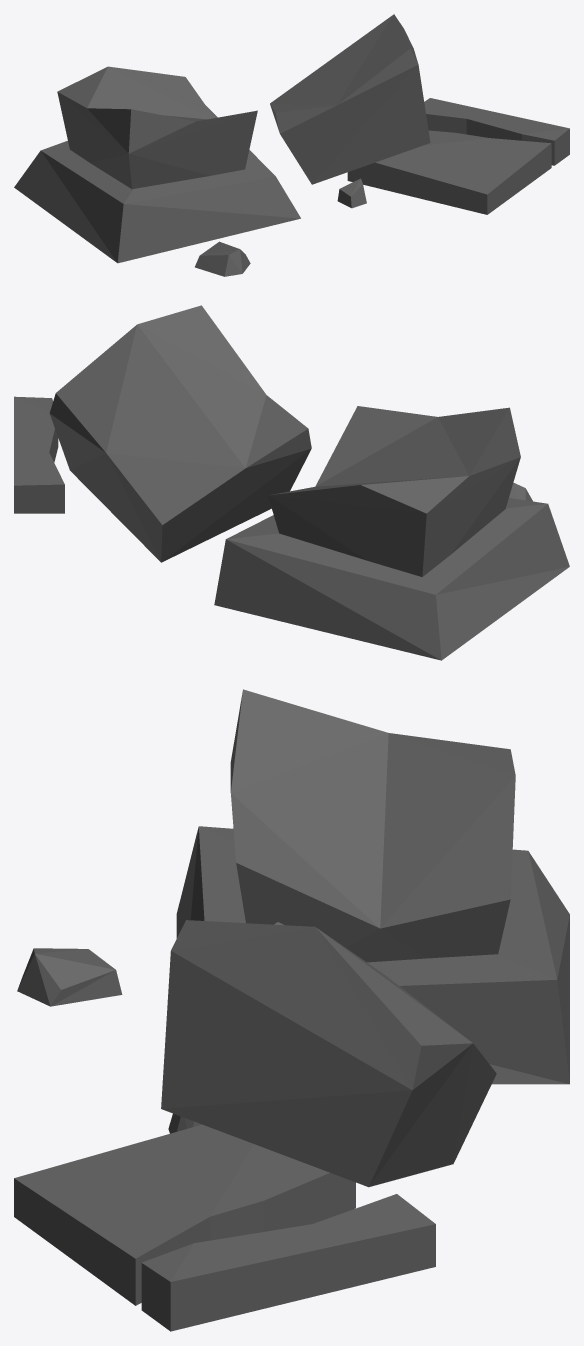
The model's file is Stone_Rail_05.FBX.
The picture shows the model from 3 angles, top to bottom: view 1: azimuth 30°, elevation 25°; view 2: azimuth 150°, elevation 25°; view 3: azimuth 270°, elevation 25°; orthographic projection. The views are drawn at different scales.
Visible parts, largest first — view 1: Stone_Rail_05; view 2: Stone_Rail_05; view 3: Stone_Rail_05.
Boxes of the visible parts, x1,y1,x2,y2 form: Stone_Rail_05: [14, 14, 569, 276]; Stone_Rail_05: [14, 305, 569, 660]; Stone_Rail_05: [14, 689, 569, 1331].
Bounding box in the file's own units: 2.62 × 0.8464 × 1.48.
